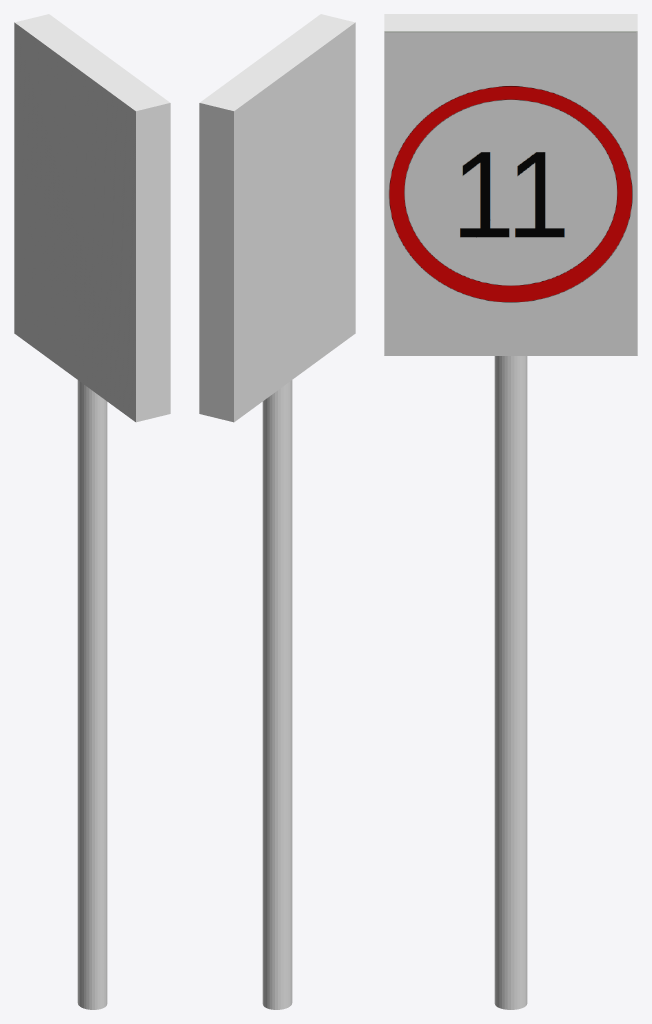
The model's file is sign11.dae.
3 renders of one model, left to right at view 1: azimuth 30°, elevation 25°; view 2: azimuth 150°, elevation 25°; view 3: azimuth 270°, elevation 25°, orthographic. The views are drawn at different scales.
Visible parts, largest first — view 1: Cube; view 2: Cube; view 3: Cube.
Part boxes in pixels (x1,y1,x2,y2): Cube: [14, 14, 170, 1009]; Cube: [199, 14, 355, 1009]; Cube: [384, 14, 637, 1009].
Bounding box in the file's own units: 0.0692 × 0.42 × 1.8.
1 material, 1 textured.
